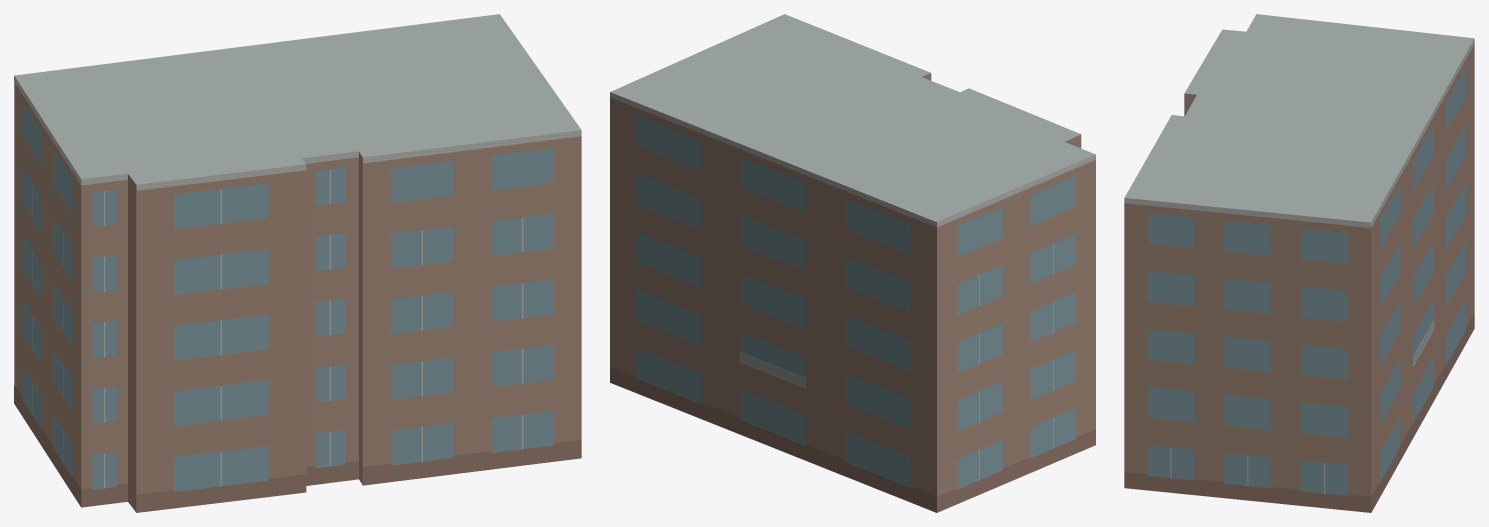
Rendered from survey-upis-32702187.glb.
The picture shows the model from 3 angles, left to right: view 1: azimuth 30°, elevation 25°; view 2: azimuth 150°, elevation 25°; view 3: azimuth 270°, elevation 25°; orthographic projection. The views are drawn at different scales.
Visible parts, largest first — view 1: survey-upis-32702187.tmp; view 2: survey-upis-32702187.tmp; view 3: survey-upis-32702187.tmp.
Part boxes in pixels (x1=…): survey-upis-32702187.tmp: x1=14, y1=14, x2=581, y2=512; survey-upis-32702187.tmp: x1=610, y1=14, x2=1095, y2=512; survey-upis-32702187.tmp: x1=1124, y1=14, x2=1474, y2=512.
Size of the model in its own units: 20.56 by 13.33 by 14.59.
